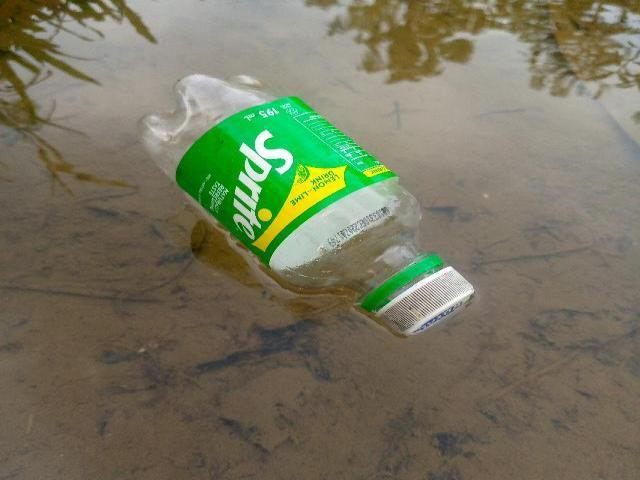Bottle: (129, 68, 484, 342)
